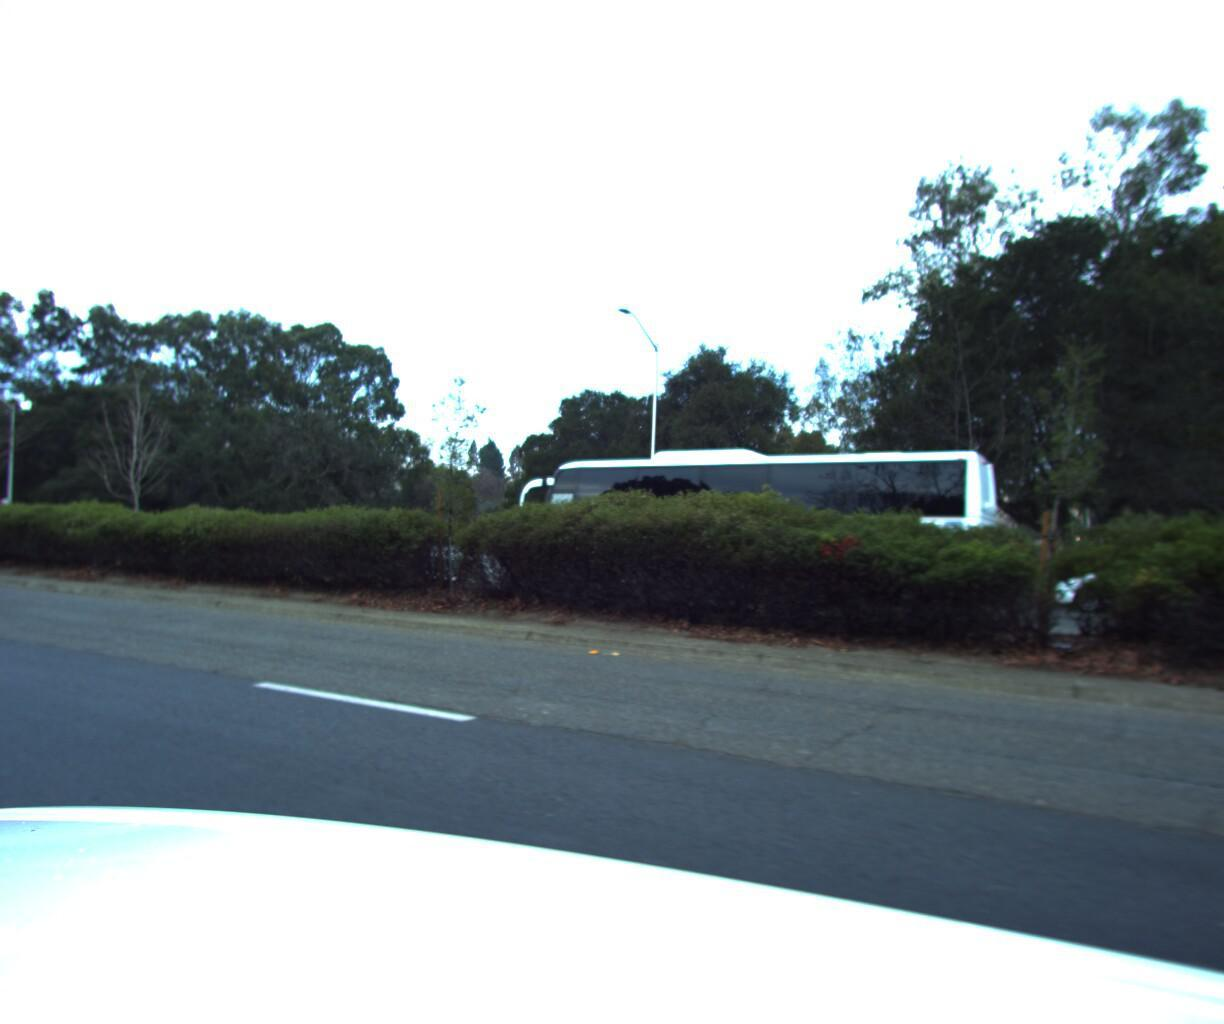truck: (504, 432, 1025, 633)
